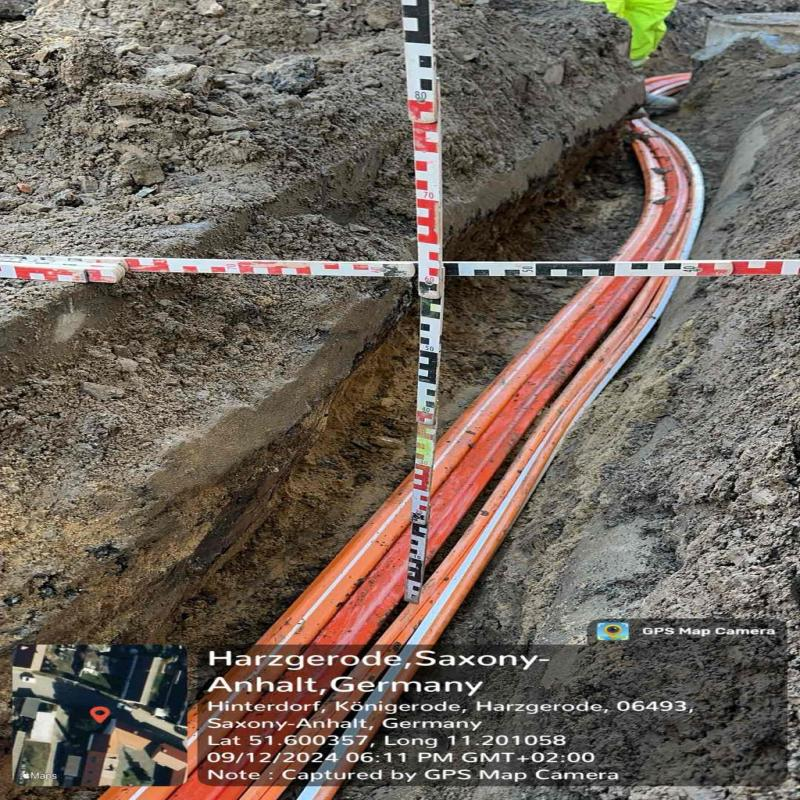Orang-Speednetrohrchen: (257, 275, 674, 647), (610, 120, 700, 262)
